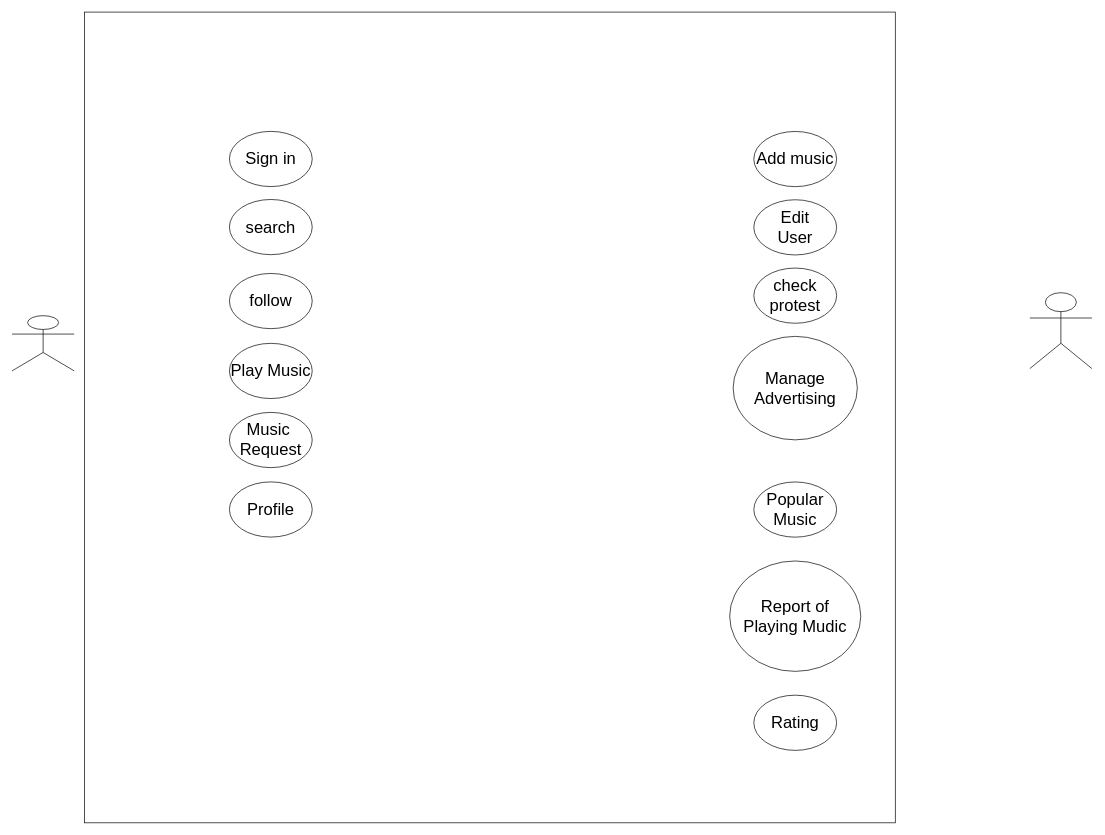
Some shapes in this 1105 by 835 pixel diagram are drawn without their labels. The box of each missing label's shape, as (x1, y1, x2, y2) in pixels:
Manager: (1029, 292, 1092, 369)
user: (11, 315, 74, 371)
